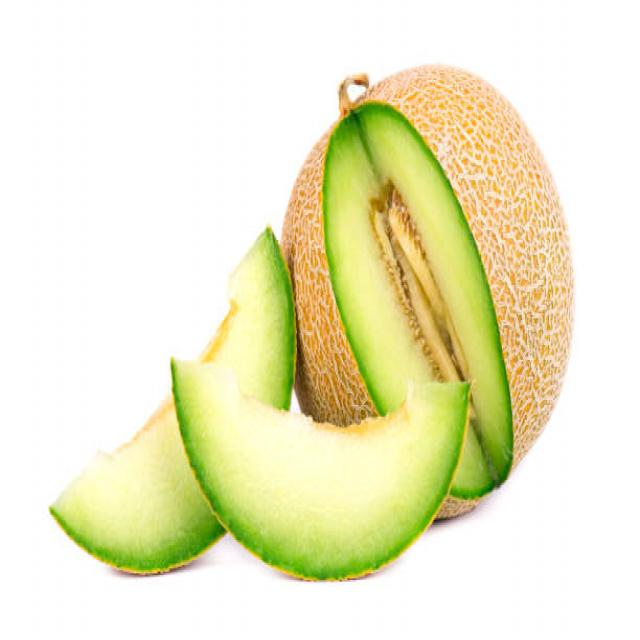melon: (295, 56, 574, 385), (172, 385, 453, 577)
